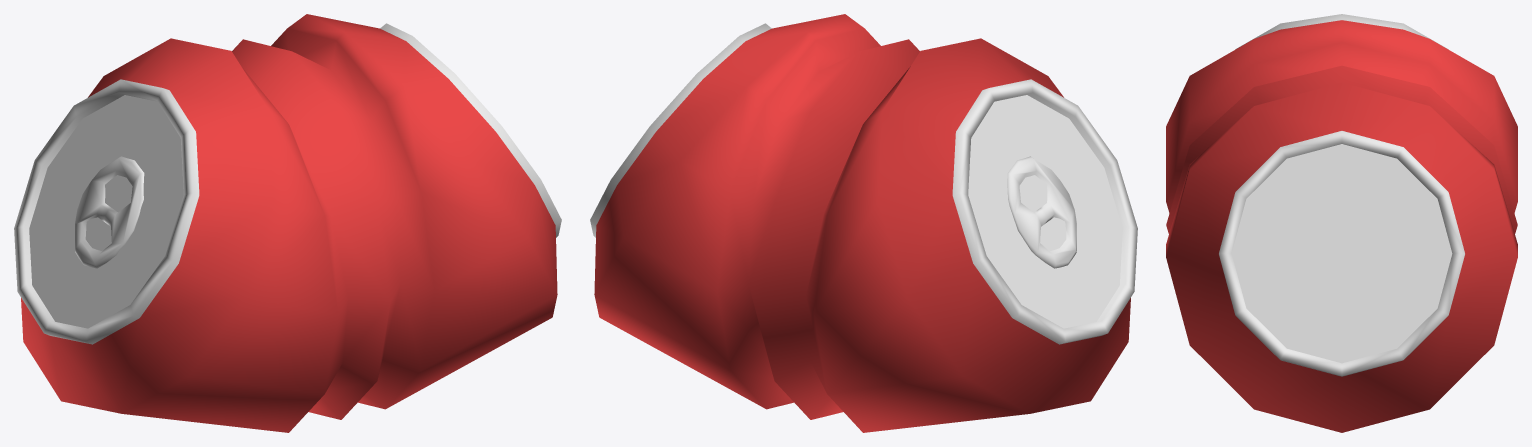
File: crashedCan.gltf
3 views of the same model, side by side, from view 1: azimuth 30°, elevation 25°; view 2: azimuth 150°, elevation 25°; view 3: azimuth 270°, elevation 25° (orthographic). The views are drawn at different scales.
Visible parts, largest first — view 1: Cylinder-Mesh, Cylinder-Mesh_1; view 2: Cylinder-Mesh, Cylinder-Mesh_1; view 3: Cylinder-Mesh, Cylinder-Mesh_1.
Part boxes in pixels (x1,y1,x2,y2): Cylinder-Mesh: (21, 14, 557, 432); Cylinder-Mesh_1: (14, 23, 561, 344); Cylinder-Mesh: (594, 14, 1130, 432); Cylinder-Mesh_1: (590, 23, 1137, 344); Cylinder-Mesh: (1166, 20, 1517, 432); Cylinder-Mesh_1: (1219, 14, 1464, 376).
Bounding box in the file's own units: 0.0947 × 0.069 × 0.0661.
